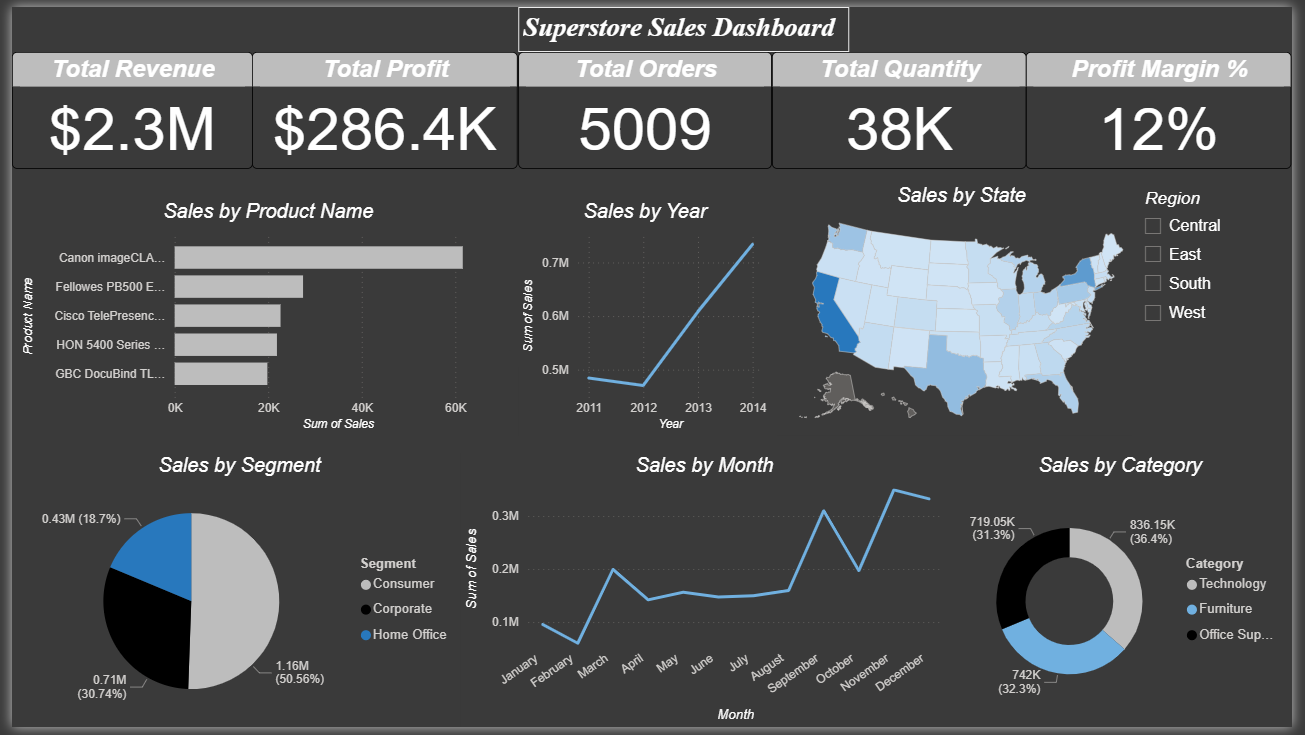

This screenshot's page, from the dashboard's own definition file:
{"tool":"powerbi","page":{"name":"Page 1","canvas":[1280,720],"ordinal":0},"visuals":[{"type":"card","title":"Total Revenue","fields":{"Values":["Superstore.Total Revenue"]},"box":[0,45.2,240.5,116.7],"z":0},{"type":"barChart","title":"Sales by Product Name","fields":{"Category":["Superstore.Product Name"],"Y":["Sum(Superstore.Sales)"]},"box":[6,192.9,500,235.7],"z":1000},{"type":"pieChart","title":"Sales by Segment","fields":{"Category":["Superstore.Segment"],"Y":["Sum(Superstore.Sales)"]},"box":[6.2,446.2,442.5,273.8],"z":2000},{"type":"card","title":"Total Profit","fields":{"Values":["Superstore.Total Profit"]},"box":[240.5,45.2,265.5,116.7],"z":3000},{"type":"card","title":"Profit Margin %","fields":{"Values":["Superstore.Profit Margin %"]},"box":[1014.3,45.2,265.5,116.7],"z":4000},{"type":"card","title":"Total Orders","fields":{"Values":["Superstore.Total Orders"]},"box":[506,45.2,253.6,116.7],"z":5000},{"type":"card","title":"Total Quantity","fields":{"Values":["Superstore.Total Quantity"]},"box":[759.5,45.2,254.8,116.7],"z":6000},{"type":"textbox","box":[506.2,0,331.2,45],"z":7000},{"type":"lineChart","title":"Sales by Year","fields":{"Y":["Sum(Superstore.Sales)"],"Category":["Superstore.Order Date.Variation.Date Hierarchy.Year"]},"box":[506,192.9,253.6,235.7],"z":8000},{"type":"lineChart","title":"Sales by Month","fields":{"Y":["Sum(Superstore.Sales)"],"Category":["Superstore.Order Date.Variation.Date Hierarchy.Month"]},"box":[448.8,446.2,487.5,273.8],"z":9000},{"type":"shapeMap","title":"Sales by State","fields":{"Category":["Superstore.State"],"Value":["Sum(Superstore.Sales)"]},"box":[765.5,176.2,369,252.4],"z":10000},{"type":"slicer","fields":{"Values":["Superstore.Region"]},"box":[1120,176.2,147.5,252.5],"z":11000},{"type":"donutChart","title":"Sales by Category","fields":{"Category":["Superstore.Category"],"Y":["Sum(Superstore.Sales)"]},"box":[936.2,446.2,343.8,273.8],"z":11001}]}

Visuals, with their boxes in screenshot pixels (x1, y1, x2, y2), scaled from the page's 1280x720 canvas onto the 1305x735 screenshot:
"Total Revenue" card: (x1=0, y1=46, x2=245, y2=165)
"Sales by Product Name" barChart: (x1=6, y1=197, x2=516, y2=438)
"Sales by Segment" pieChart: (x1=6, y1=455, x2=457, y2=734)
"Total Profit" card: (x1=245, y1=46, x2=516, y2=165)
"Profit Margin %" card: (x1=1034, y1=46, x2=1304, y2=165)
"Total Orders" card: (x1=516, y1=46, x2=774, y2=165)
"Total Quantity" card: (x1=774, y1=46, x2=1034, y2=165)
textbox: (x1=516, y1=0, x2=854, y2=46)
"Sales by Year" lineChart: (x1=516, y1=197, x2=774, y2=438)
"Sales by Month" lineChart: (x1=458, y1=455, x2=955, y2=734)
"Sales by State" shapeMap: (x1=780, y1=180, x2=1157, y2=438)
slicer - Superstore.Region: (x1=1142, y1=180, x2=1292, y2=438)
"Sales by Category" donutChart: (x1=954, y1=455, x2=1304, y2=734)
